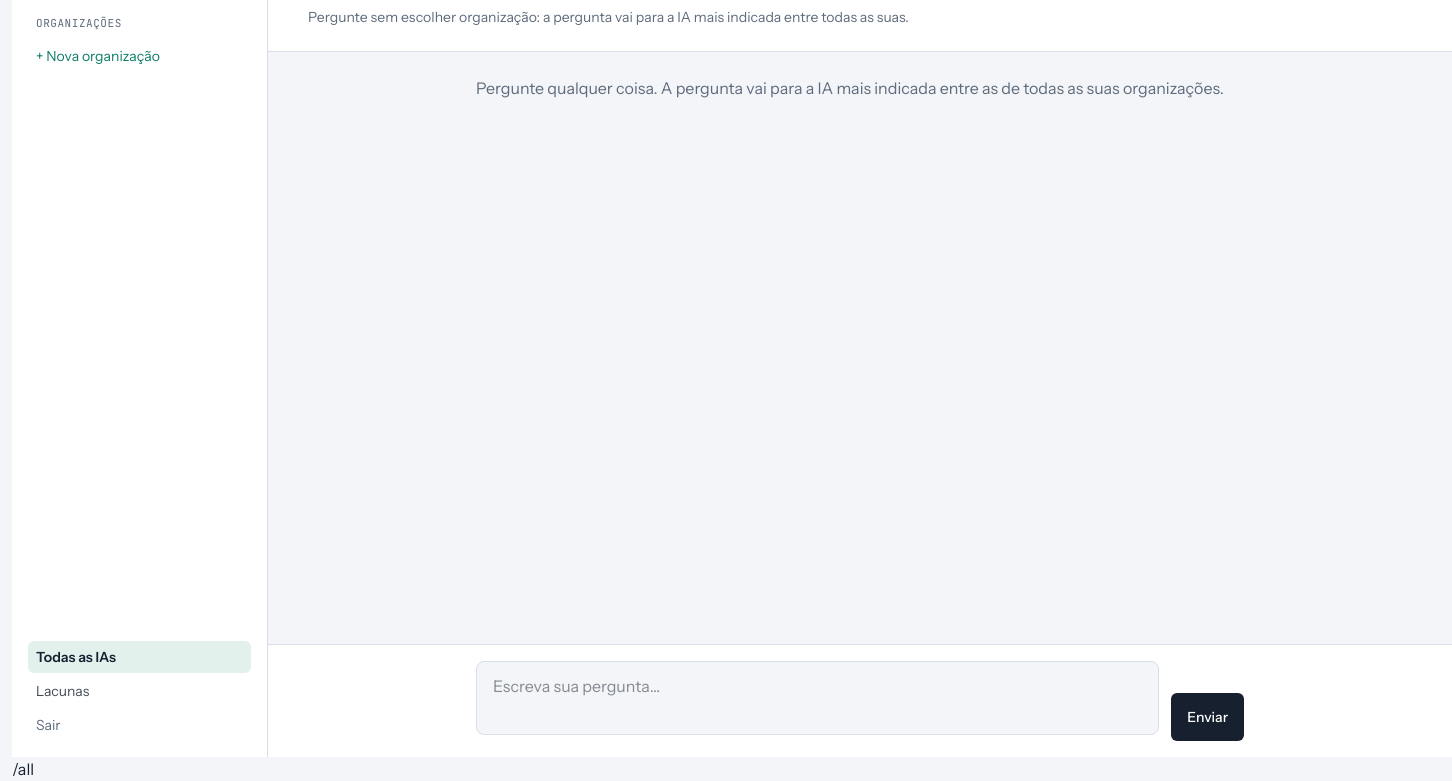
Test case: all assistants › all assistants no match points to gaps
The width and height of the screenshot is (1452, 781).
(page scrolled)
Type "O que é fotossíntese?" into the text box named "Mensagem" at (818, 698), box left=476, top=661, right=1159, bottom=735
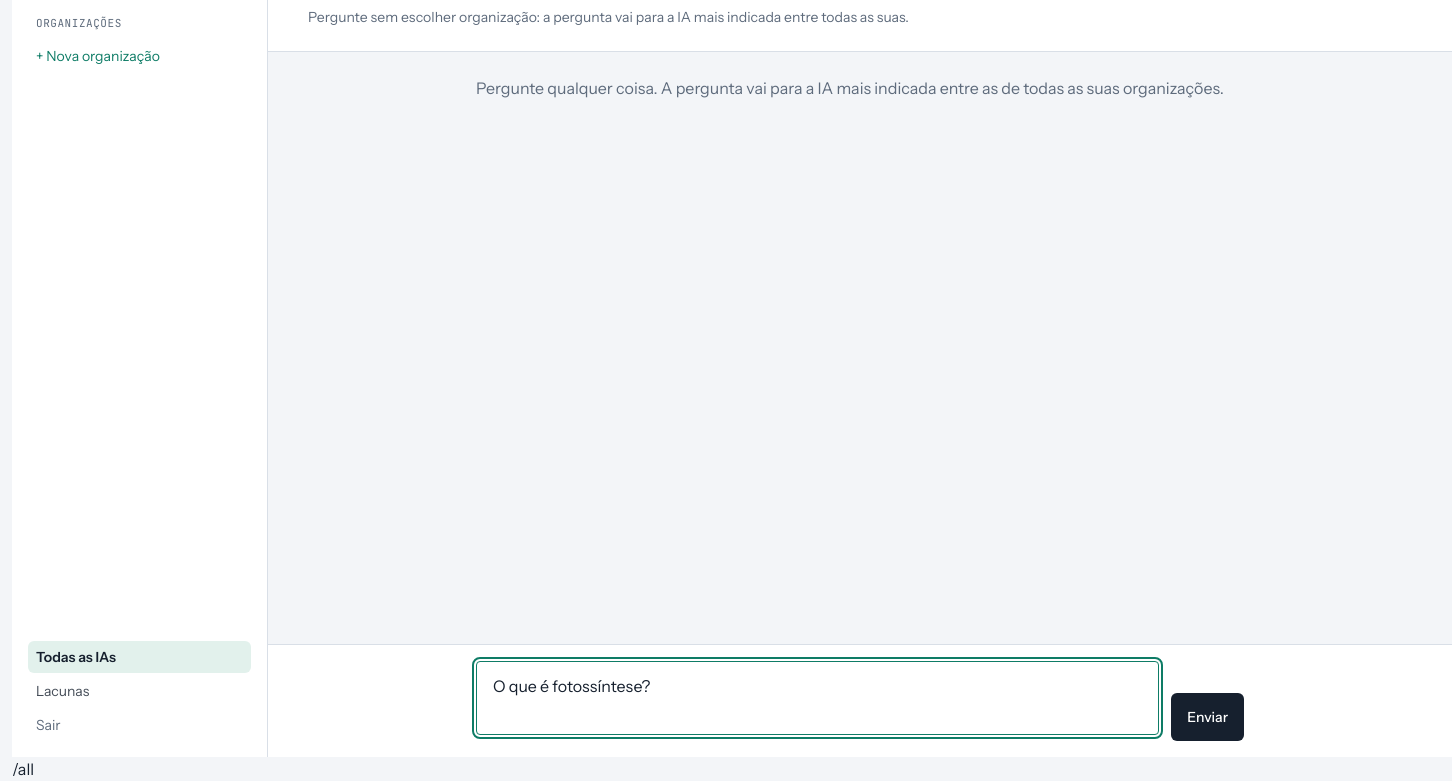
Click the button "Enviar" at (1208, 717), box left=1171, top=693, right=1244, bottom=741
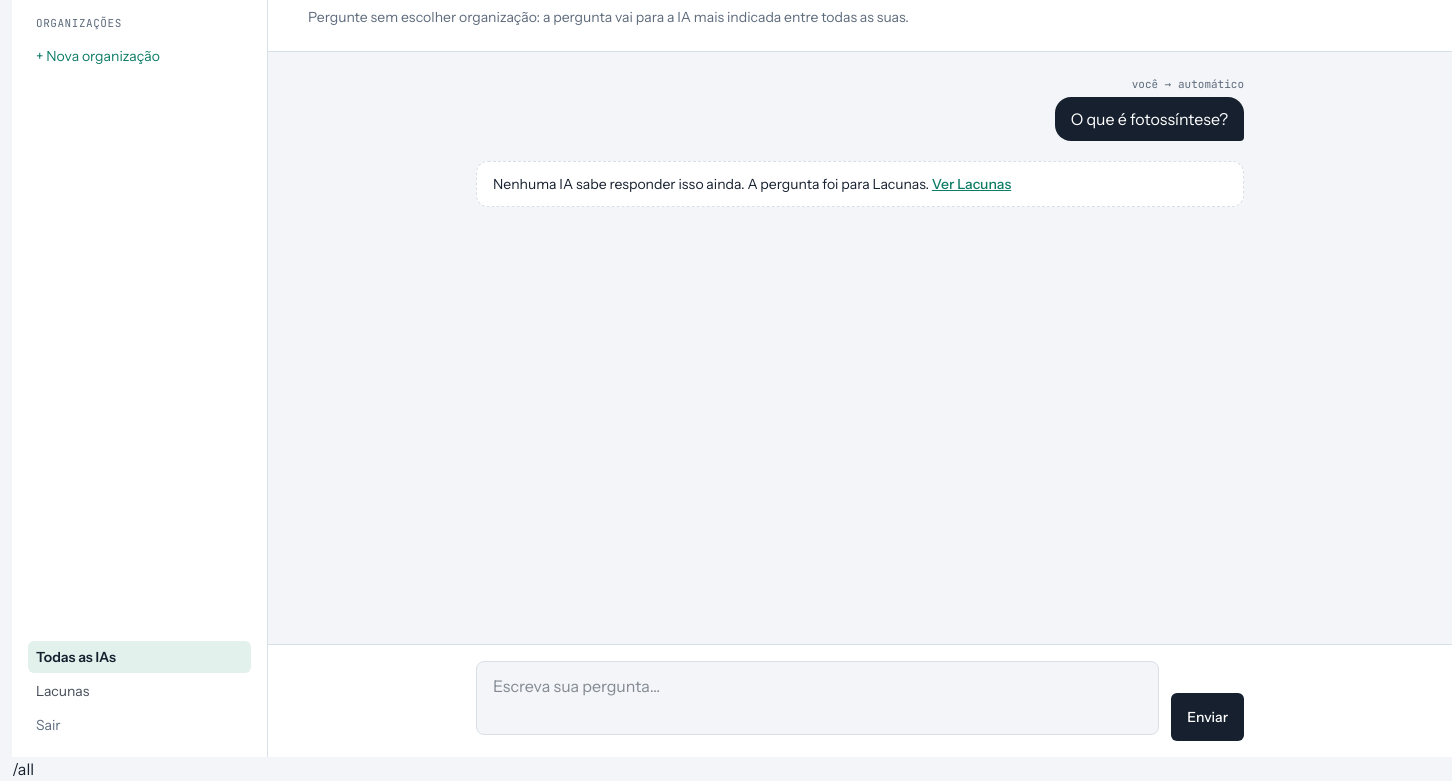
Expected: the text "Nenhuma IA sabe responder isso ainda. A pergunta foi para Lacunas." is shown, left=493, top=174, right=929, bottom=192
